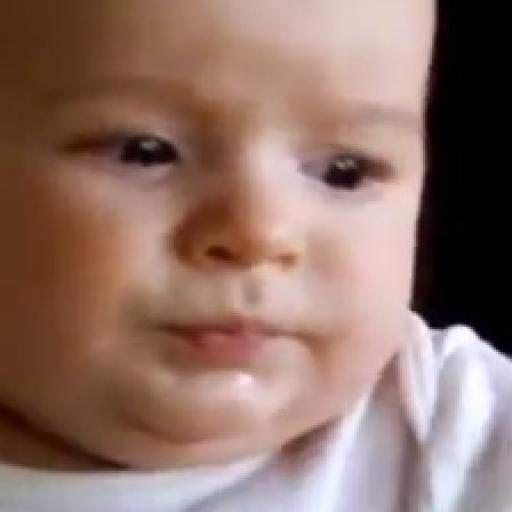Autism: (5, 4, 449, 484)
